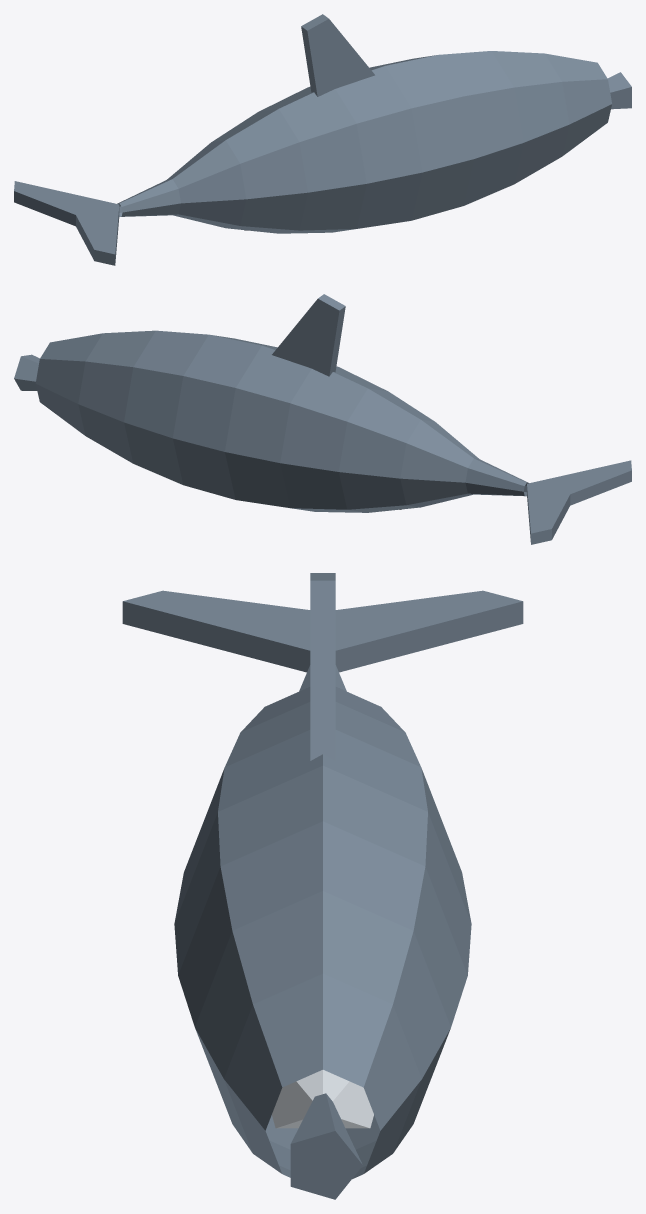
Rendered from dolphin.glb.
The picture shows the model from 3 angles, top to bottom: view 1: azimuth 30°, elevation 25°; view 2: azimuth 150°, elevation 25°; view 3: azimuth 270°, elevation 25°; orthographic projection. The views are drawn at different scales.
Parts seen in each view (by area): view 1: dolphin; view 2: dolphin; view 3: dolphin.
Boxes of the visible parts, x1=… form: dolphin: x1=14, y1=14, x2=631, y2=265; dolphin: x1=14, y1=294, x2=631, y2=544; dolphin: x1=122, y1=573, x2=523, y2=1199.
Bounding box in the file's own units: 2.62 × 0.9792 × 0.8.
